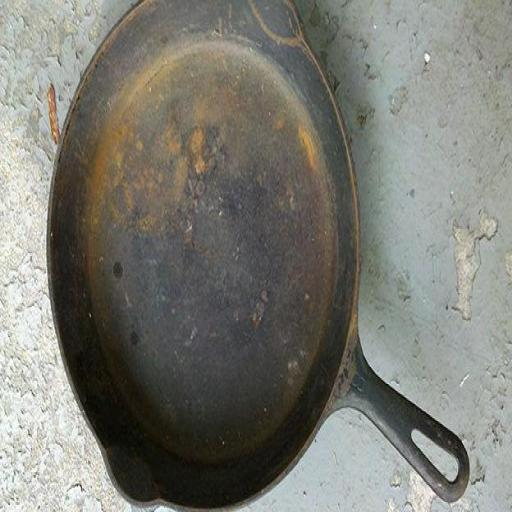segmentation: (84, 64, 243, 351)
